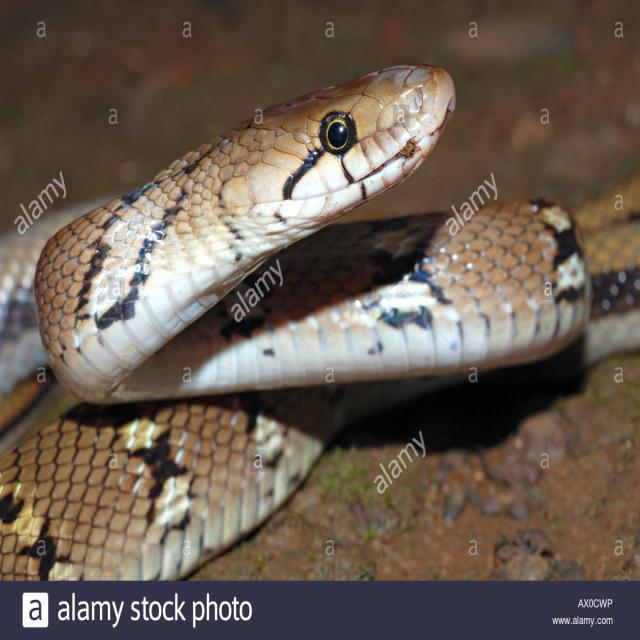Snake: (1, 61, 638, 580)
